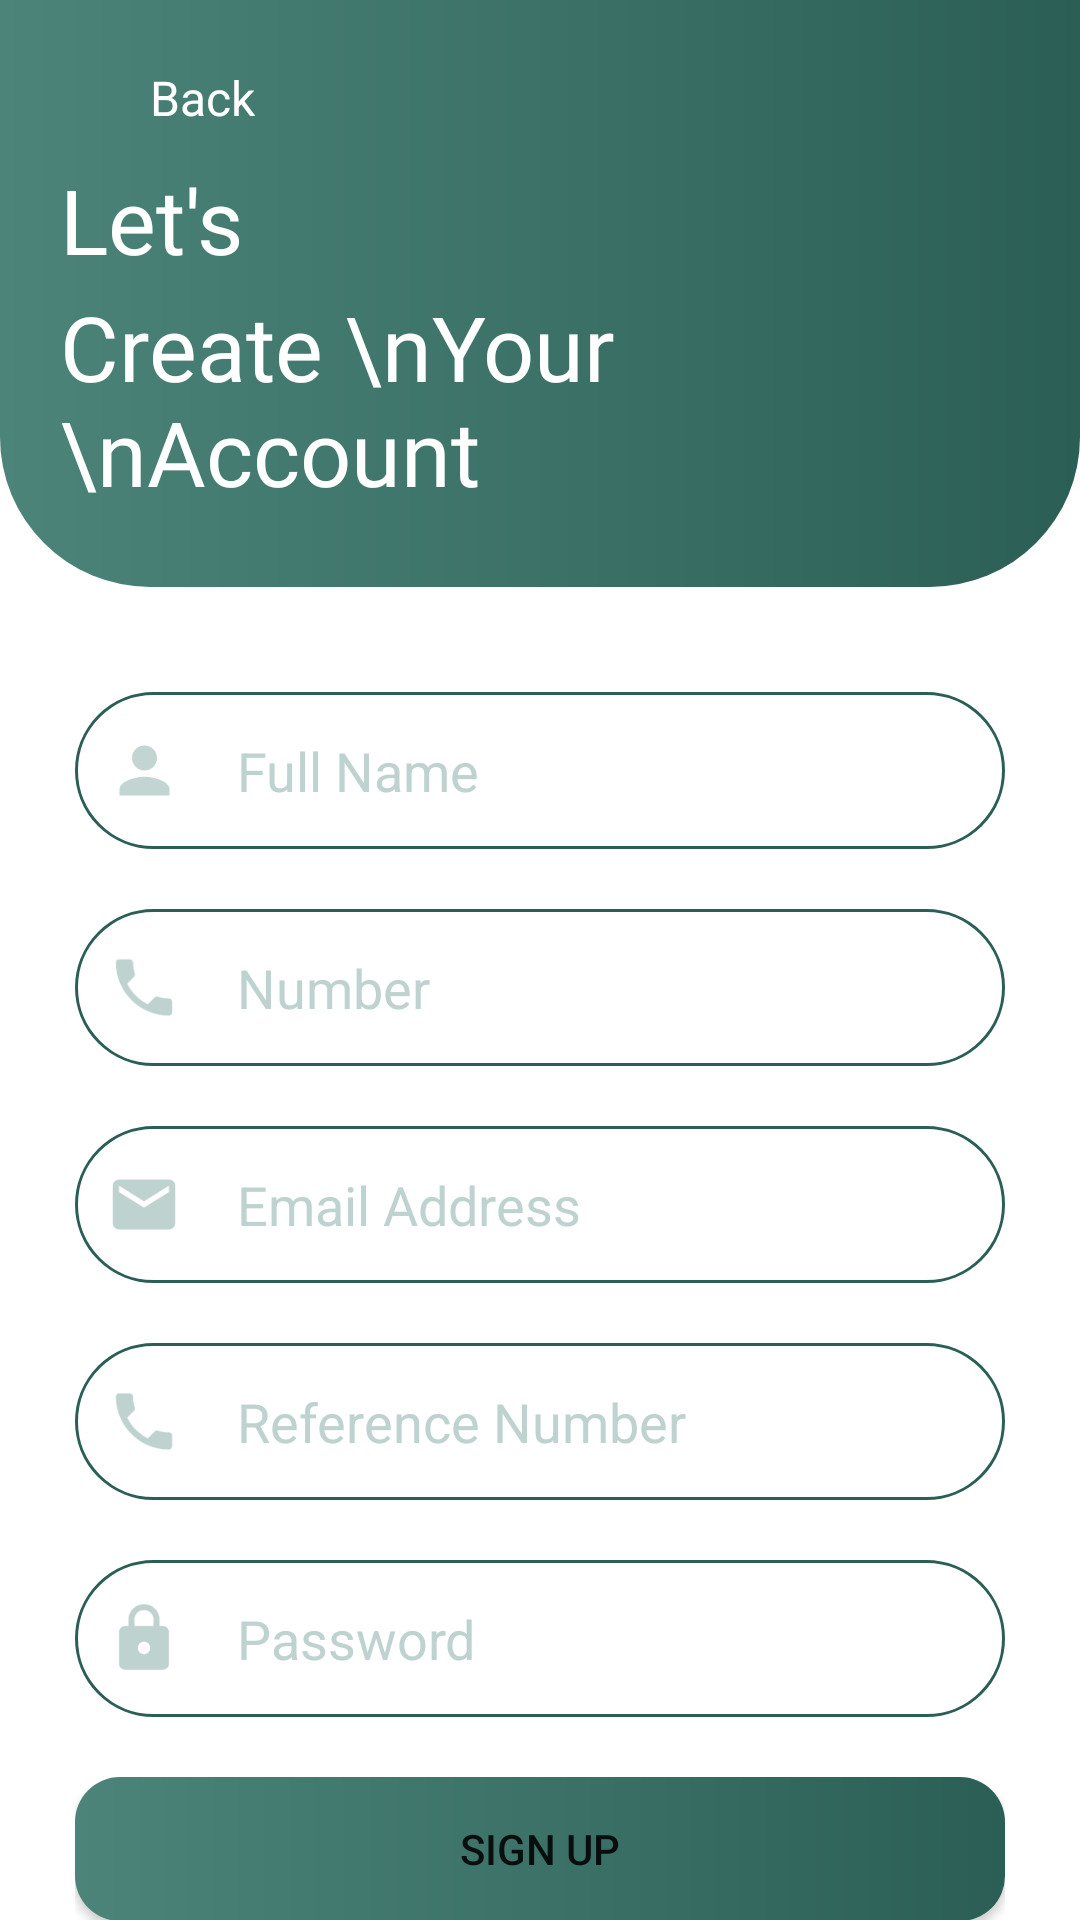

Named icons in this screenshot (1080×1920) and their centers, [x,y]:
lock: [144,1637]
person: [144,770]
phone: [144,987], [144,1421]
